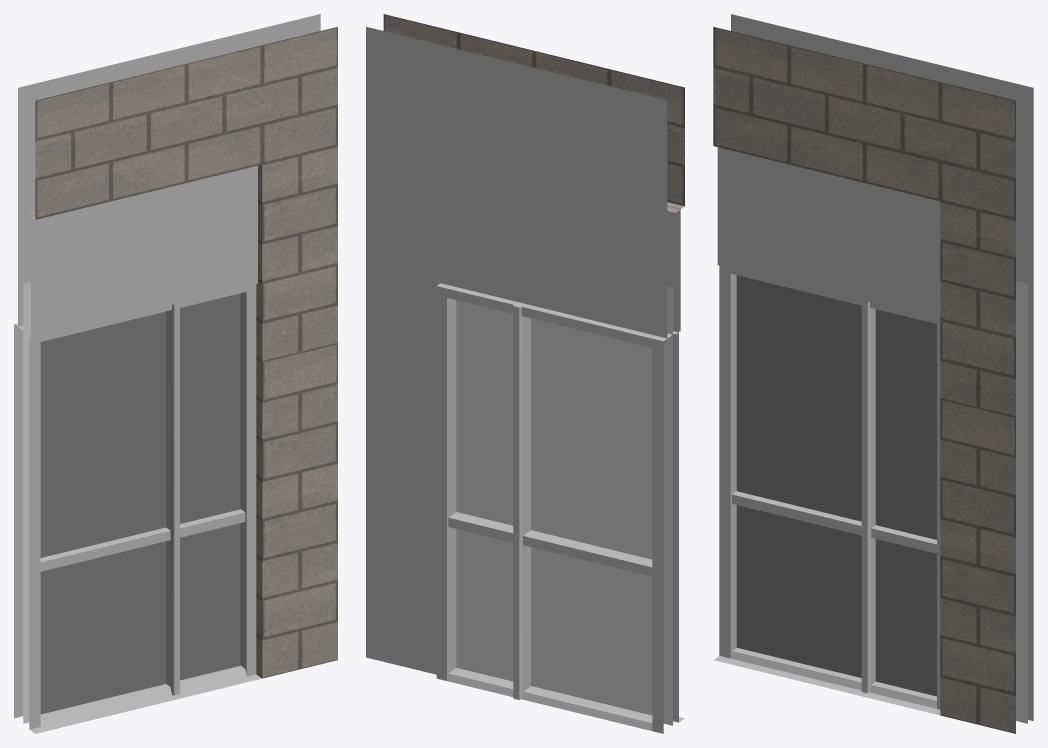
File: WhiteBrick_Window_R.gltf
The picture shows the model from 3 angles, left to right: view 1: azimuth 30°, elevation 25°; view 2: azimuth 150°, elevation 25°; view 3: azimuth 330°, elevation 25°; orthographic projection.
Parts seen in each view (by area): view 1: WhiteBrick_Window_R; view 2: WhiteBrick_Window_R; view 3: WhiteBrick_Window_R.
Boxes of the visible parts, x1=… form: WhiteBrick_Window_R: x1=14, y1=14, x2=337, y2=733; WhiteBrick_Window_R: x1=366, y1=14, x2=684, y2=733; WhiteBrick_Window_R: x1=713, y1=14, x2=1033, y2=733.
Size of what is drawn, in the model's own units: 2 by 4 by 0.2599.
